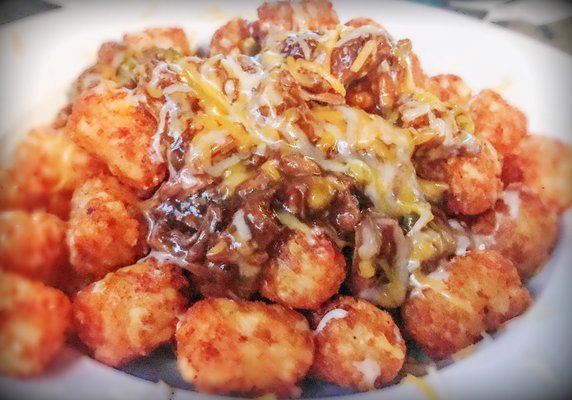sandwich: (4, 2, 569, 400)
